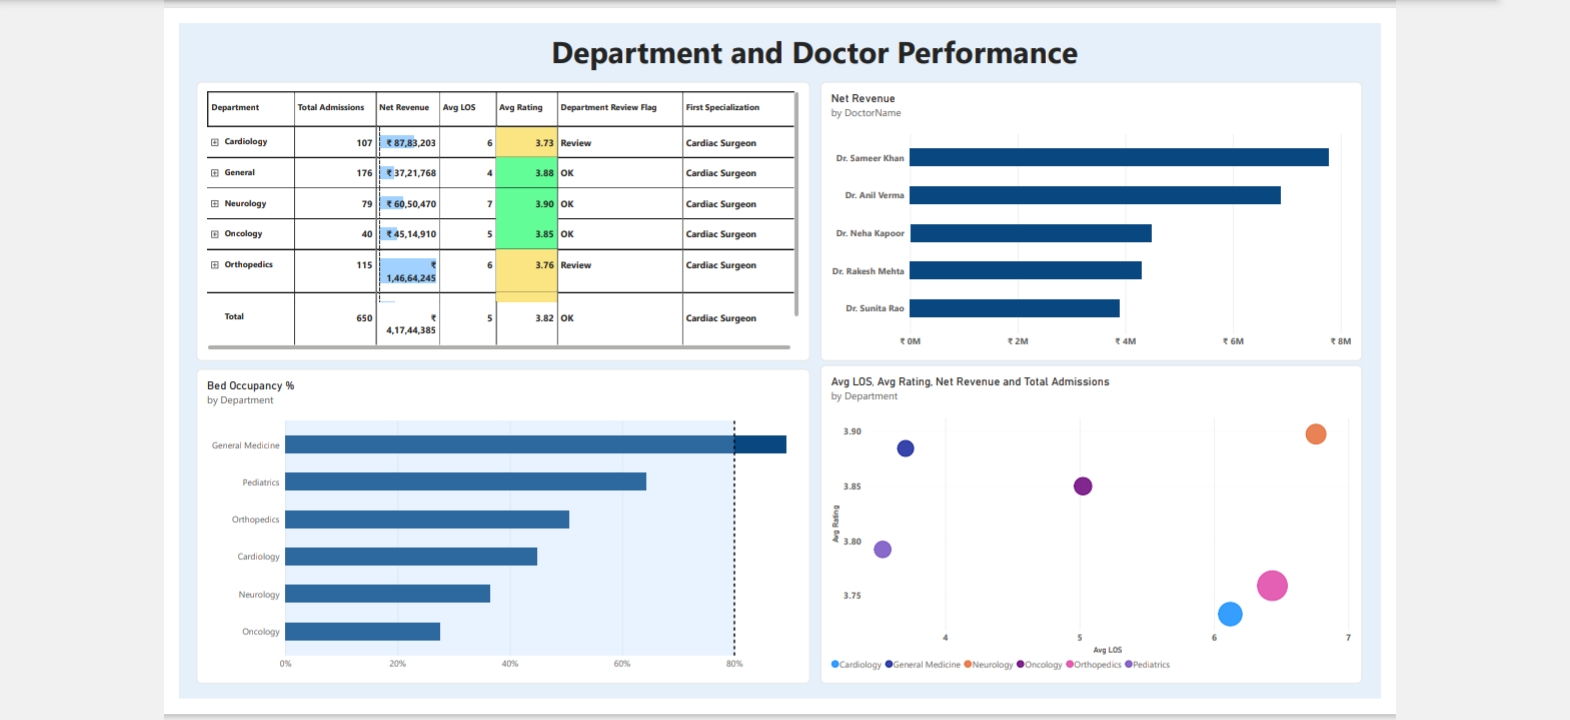

The page's visual inventory and layout, read from the dashboard file:
{"tool":"powerbi","page":{"name":"Department and Doctor Performance","canvas":[1920,1080],"ordinal":1},"visuals":[{"type":"pivotTable","fields":{"Rows":["DimDepartment.Department","DimDoctor.DoctorName"],"Values":["_Measures.Total Admissions","_Measures.Net Revenue","_Measures.Avg LOS","_Measures.Avg Rating","_Measures.Department Review Flag","Min(DimDoctor.Specialization)"]},"box":[27.9,94.4,980.2,445.6],"z":0},{"type":"clusteredBarChart","fields":{"Category":["DimDoctor.DoctorName"],"Y":["_Measures.Net Revenue"]},"box":[1025.5,94.4,864.5,445.6],"z":1000},{"type":"barChart","fields":{"Category":["DimDepartment.Department"],"Y":["_Measures.Bed Occupancy %"]},"box":[27.9,553.3,980.2,502.8],"z":2000},{"type":"scatterChart","fields":{"Series":["DimDepartment.Department"],"Size":["_Measures.Net Revenue"],"X":["_Measures.Avg LOS"],"Y":["_Measures.Avg Rating"]},"box":[1025.5,546.7,864.5,509.4],"z":3000},{"type":"textbox","box":[594.5,12,863.2,82.5],"z":4000}]}

Visuals, with their boxes on the page's 1920x1080 design canvas (x1, y1, x2, y2). These are canvas units, not pixel positions in the 1570x720 screenshot, which may show the page scaled, cropped or inside an application window:
pivotTable - DimDepartment.Department x DimDoctor.DoctorName: select_region(28, 94, 1008, 540)
clusteredBarChart - DimDoctor.DoctorName x _Measures.Net Revenue: select_region(1026, 94, 1890, 540)
barChart - DimDepartment.Department x _Measures.Bed Occupancy %: select_region(28, 553, 1008, 1056)
scatterChart - DimDepartment.Department x _Measures.Net Revenue: select_region(1026, 547, 1890, 1056)
textbox: select_region(594, 12, 1458, 94)
